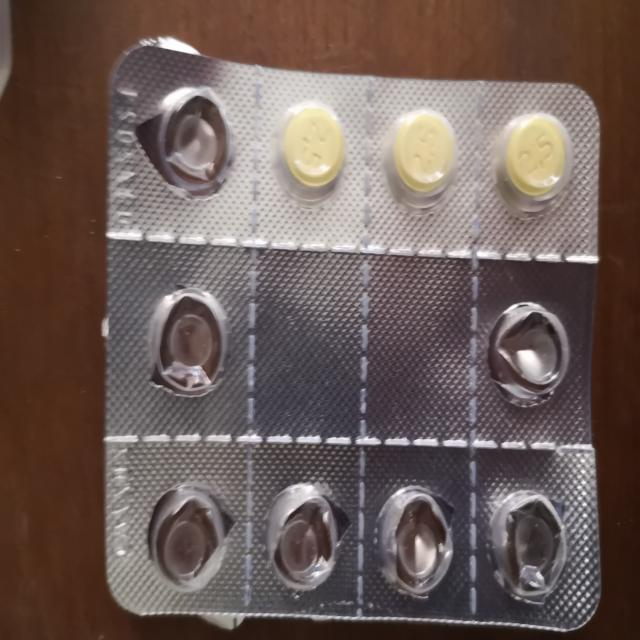Empty: (487, 486, 573, 615), (371, 479, 456, 606), (480, 292, 568, 413), (142, 284, 227, 408), (258, 473, 340, 598), (144, 475, 228, 594), (144, 81, 230, 196)
Pill: (489, 96, 577, 224), (266, 86, 350, 200), (379, 101, 463, 213)
